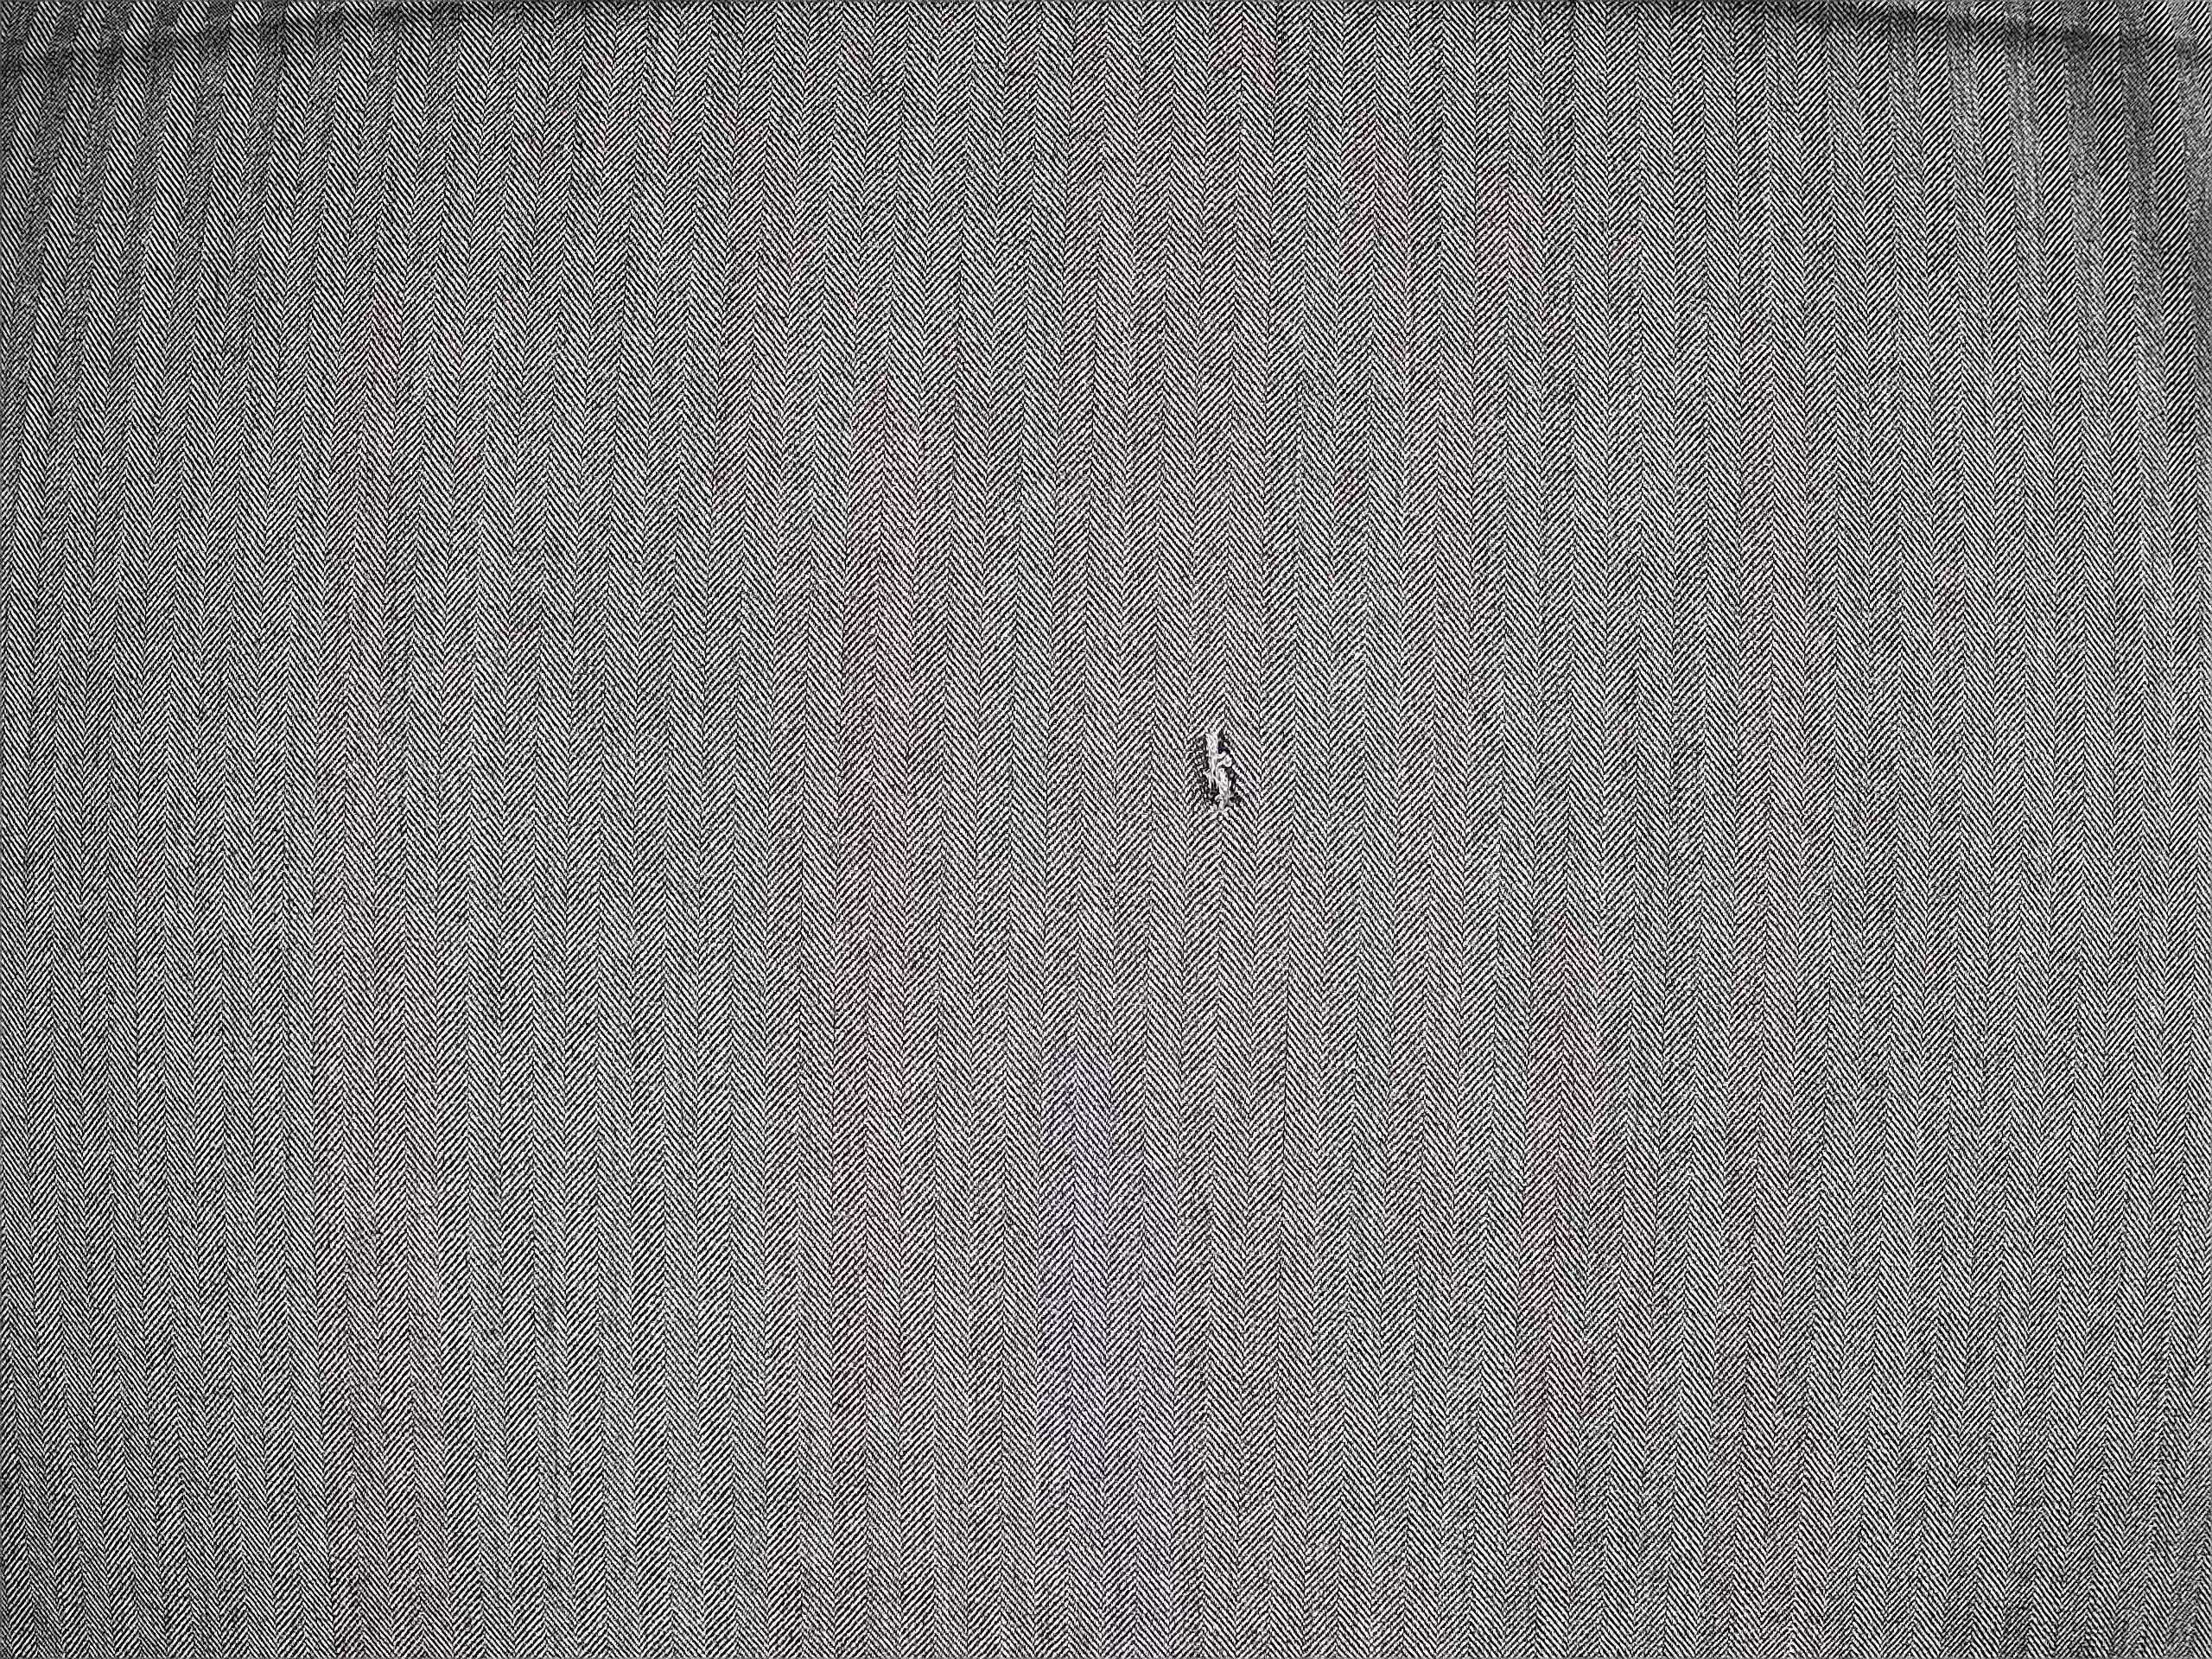rubbing-hole: (1162, 706, 1273, 828)
